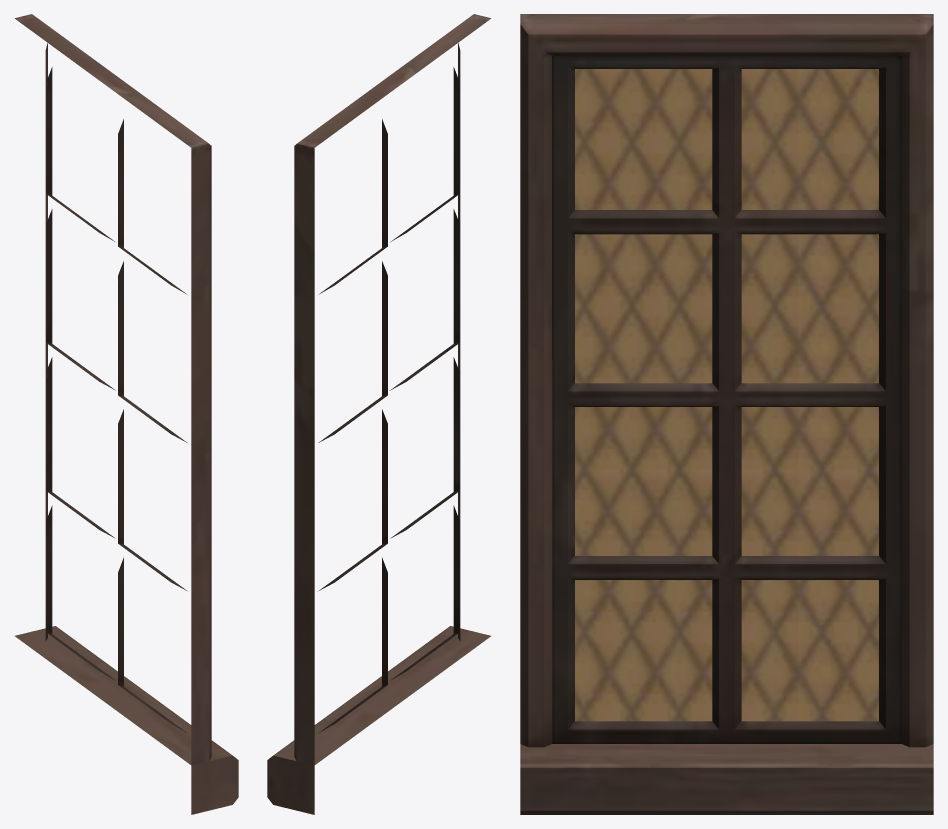
3 views of the same model, side by side, from view 1: azimuth 30°, elevation 25°; view 2: azimuth 150°, elevation 25°; view 3: azimuth 270°, elevation 25° (orthographic). The views are drawn at different scales.
Parts seen in each view (by area): view 1: body0_model0_lod0_mesh1; view 2: body0_model0_lod0_mesh1; view 3: body0_model0_lod0_mesh1, body0_model0_lod0_mesh0.
Boxes of the visible parts, x1,y1,x2,y2 form: body0_model0_lod0_mesh1: [15, 14, 238, 814]; body0_model0_lod0_mesh1: [267, 14, 490, 814]; body0_model0_lod0_mesh1: [520, 14, 933, 814]; body0_model0_lod0_mesh0: [575, 69, 878, 721].
Bounding box in the file's own units: 8 × 108 × 52.
Materials: 2 (2 with a texture image).
